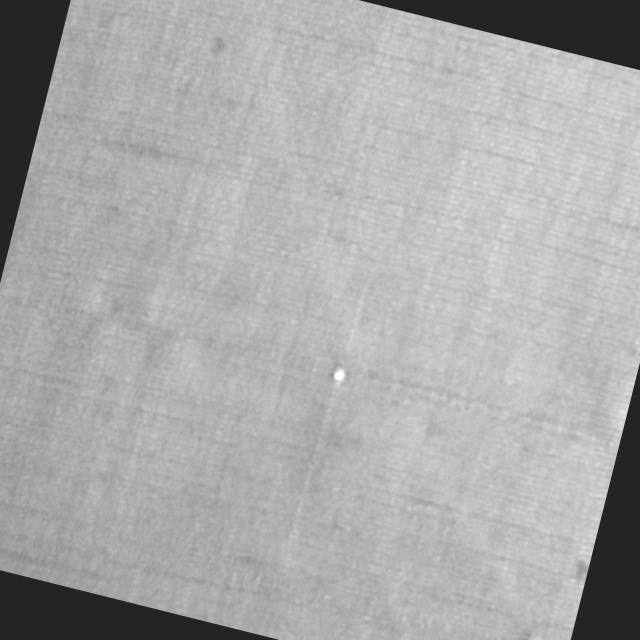hole: (328, 361, 352, 387), (517, 631, 547, 640)
